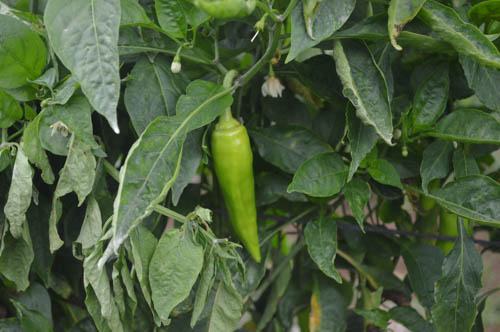ChiliPepper: (208, 127, 265, 263)
